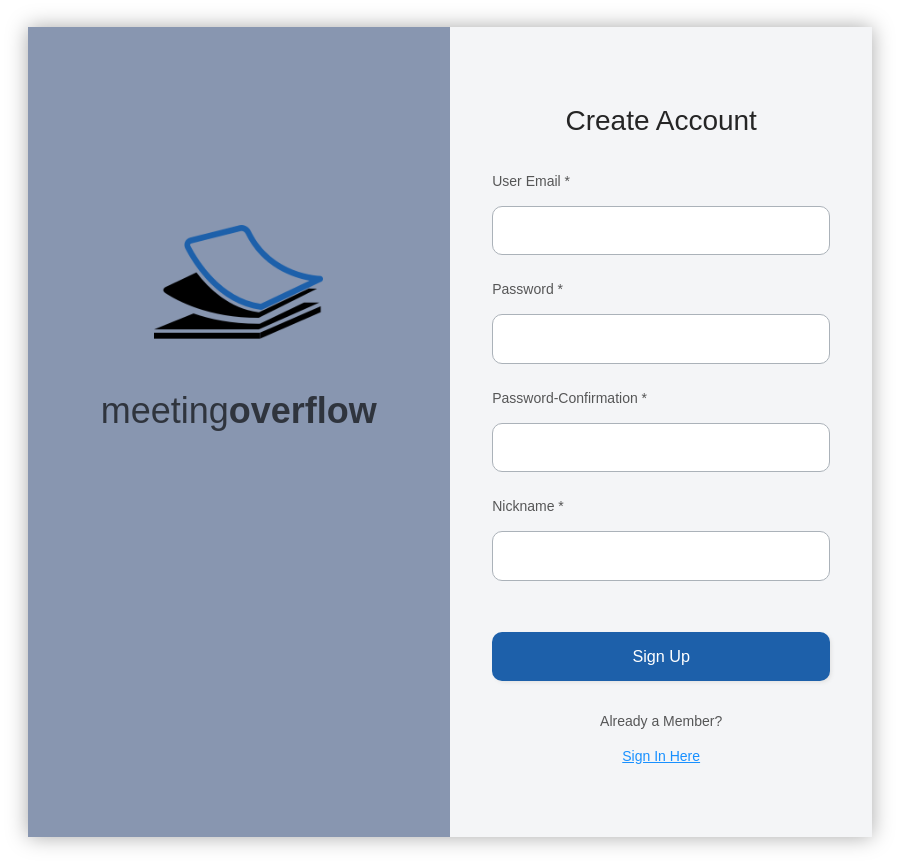
Test: <SignUp /> › When user enter invalid email
Type "test@test.wrong.email" into the field with id "user_email" at [661, 230], box [492,206,830,255]
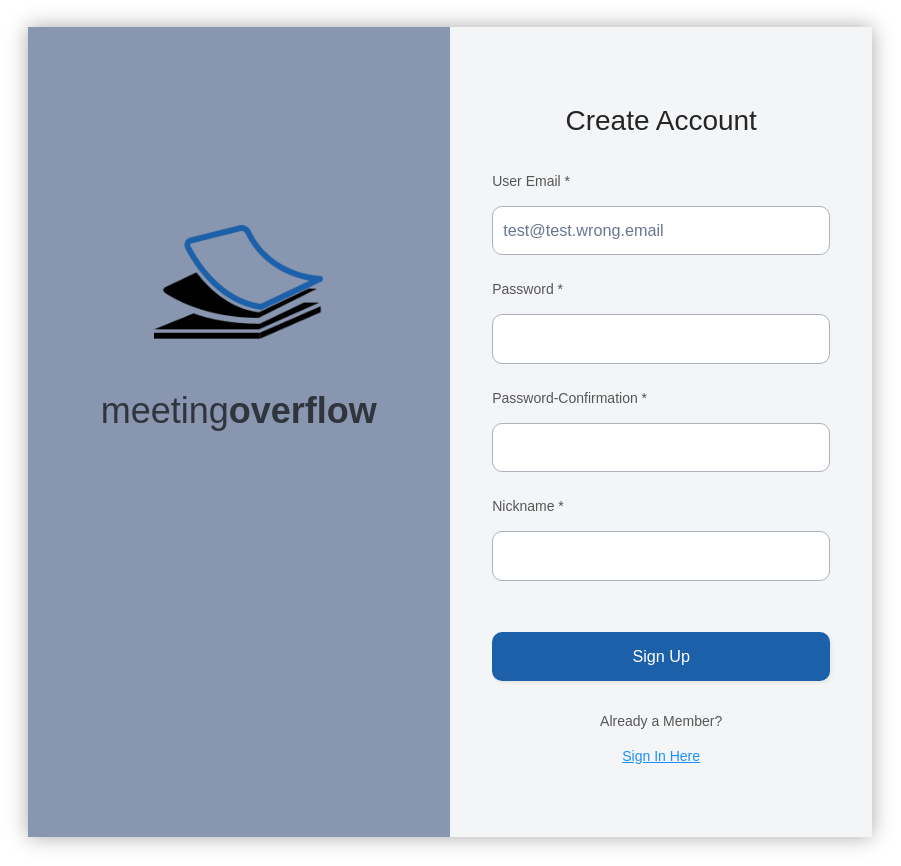
Leave the field with id "user_email", box [492,206,830,255]
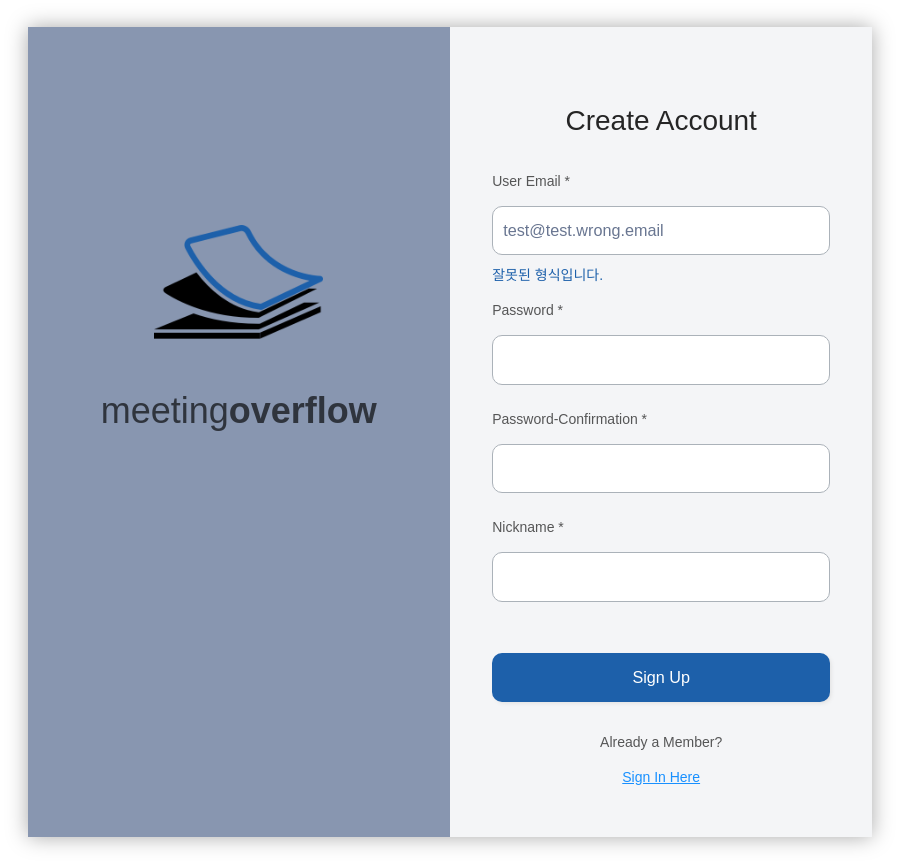
expect the text "잘못된 형식입니다." is shown: met, box [492,267,603,283]
